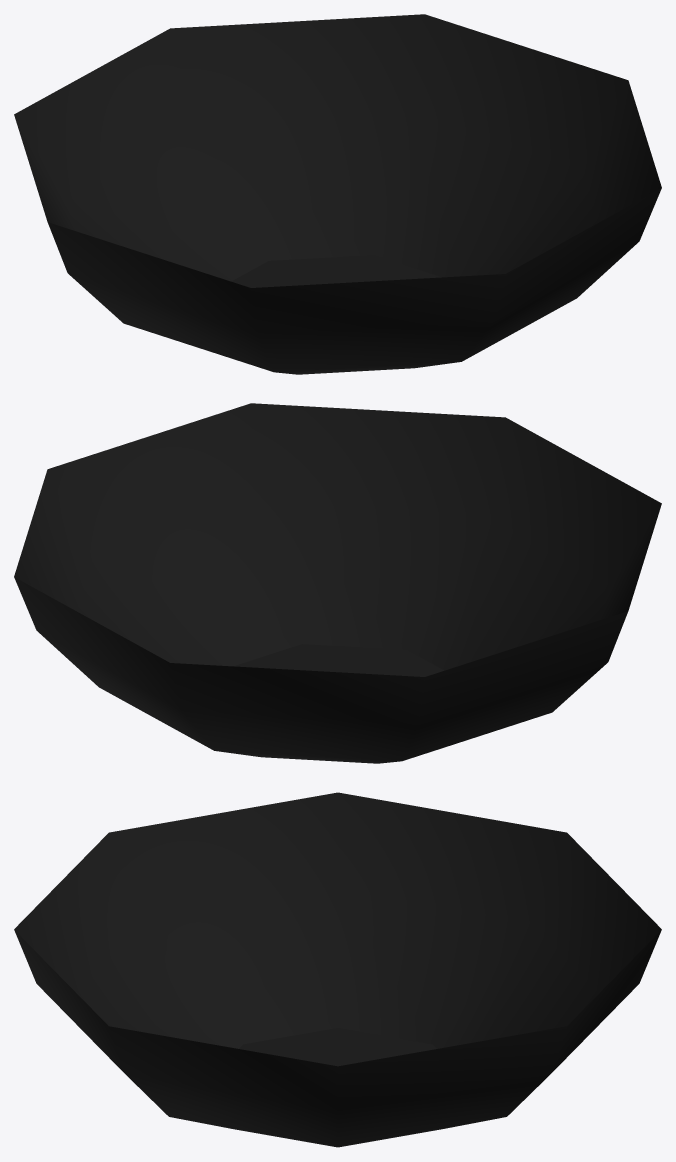
Rendered from Bowl_F.FBX.
The picture shows the model from 3 angles, top to bottom: view 1: azimuth 30°, elevation 25°; view 2: azimuth 150°, elevation 25°; view 3: azimuth 270°, elevation 25°; orthographic projection. The views are drawn at different scales.
Visible parts, largest first — view 1: Bowl; view 2: Bowl; view 3: Bowl.
Part boxes in pixels (bbox=[...]): Bowl: bbox=[14, 14, 661, 374]; Bowl: bbox=[14, 403, 661, 763]; Bowl: bbox=[14, 792, 661, 1147].
Bounding box in the file's own units: 70.43 × 18.64 × 70.43.
